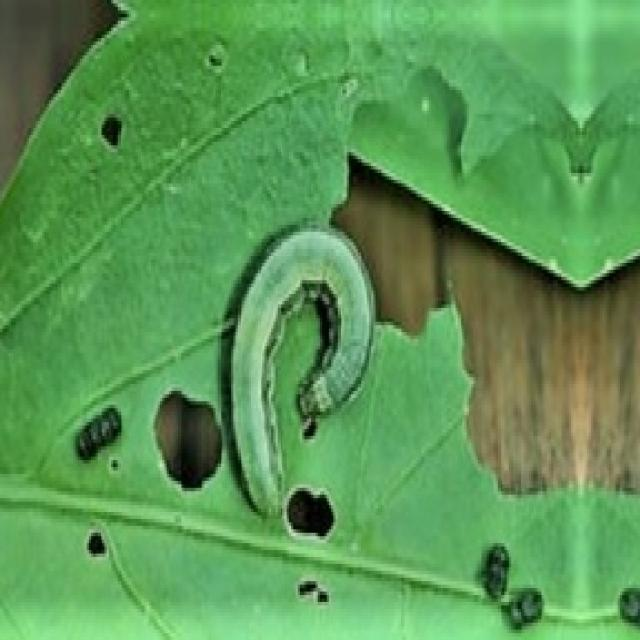armyworm: (231, 215, 378, 525)
